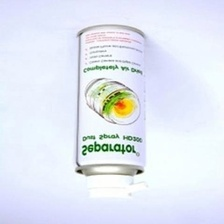aerosol_cans: (69, 20, 153, 201)
